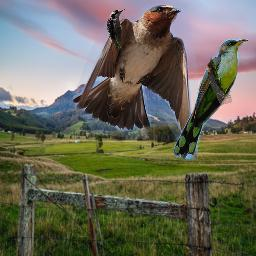Cuckoo: (174, 39, 248, 160)
Swallow: (73, 4, 198, 160)
Woodpecker: (105, 7, 126, 54)
